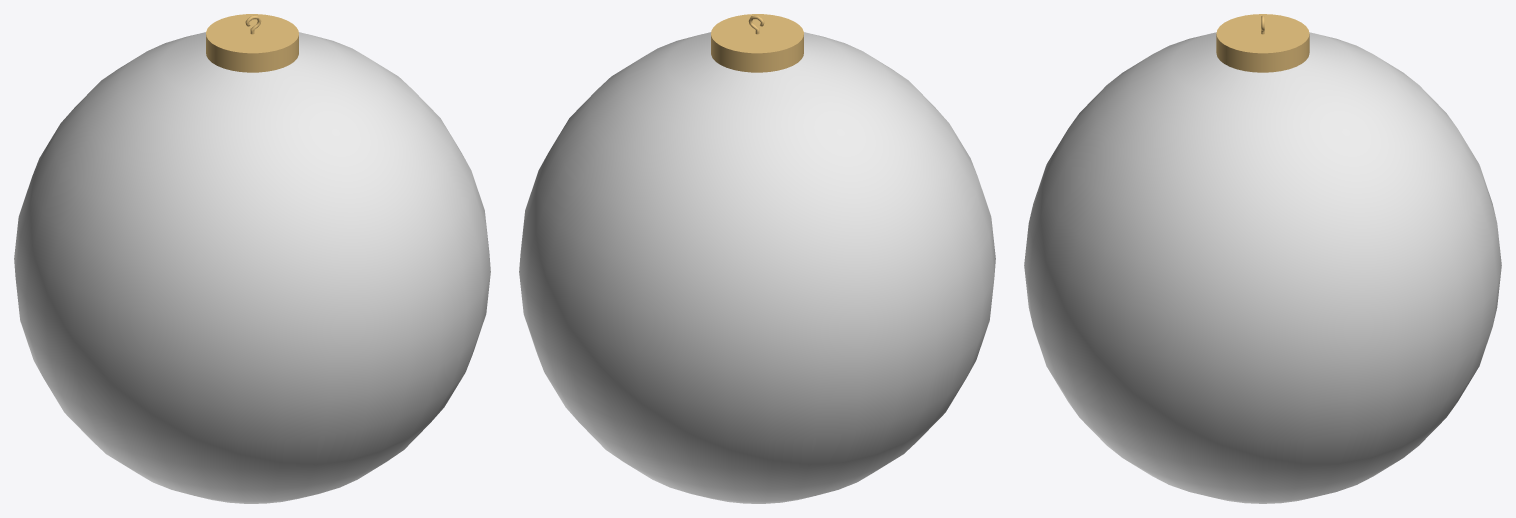
The model's file is bauble-glass.fbx.
The picture shows the model from 3 angles, left to right: view 1: azimuth 30°, elevation 25°; view 2: azimuth 150°, elevation 25°; view 3: azimuth 270°, elevation 25°; orthographic projection.
Parts seen in each view (by area): view 1: Bauble2; view 2: Bauble2; view 3: Bauble2.
Part boxes in pixels (x1,y1,x2,y2): Bauble2: (14, 14, 490, 503); Bauble2: (519, 14, 995, 503); Bauble2: (1024, 14, 1501, 503).
Size of the model in its own units: 50 by 53.79 by 50.
